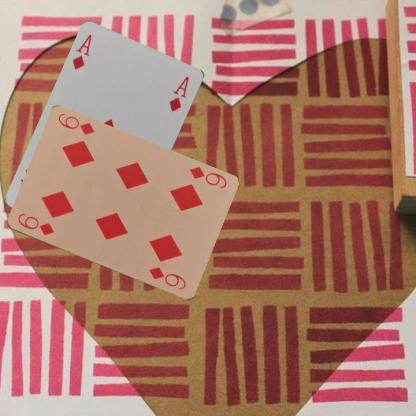6d: (15, 210, 56, 237), (186, 164, 228, 190)
Ad: (69, 32, 93, 72)
